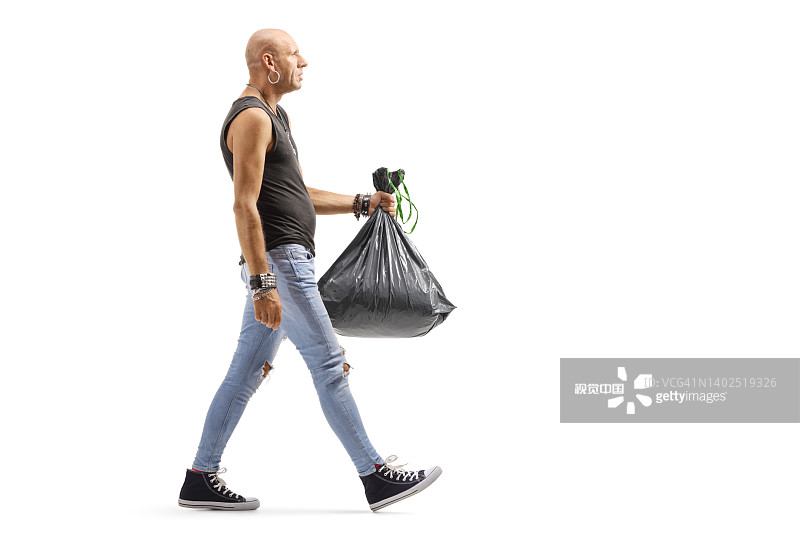no-phone: (246, 281, 290, 335), (352, 186, 409, 221)
